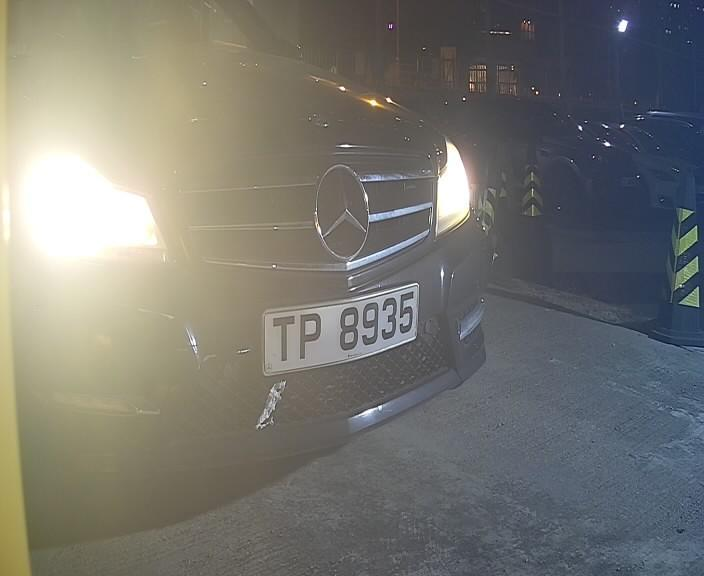privatecar: (13, 13, 503, 499)
